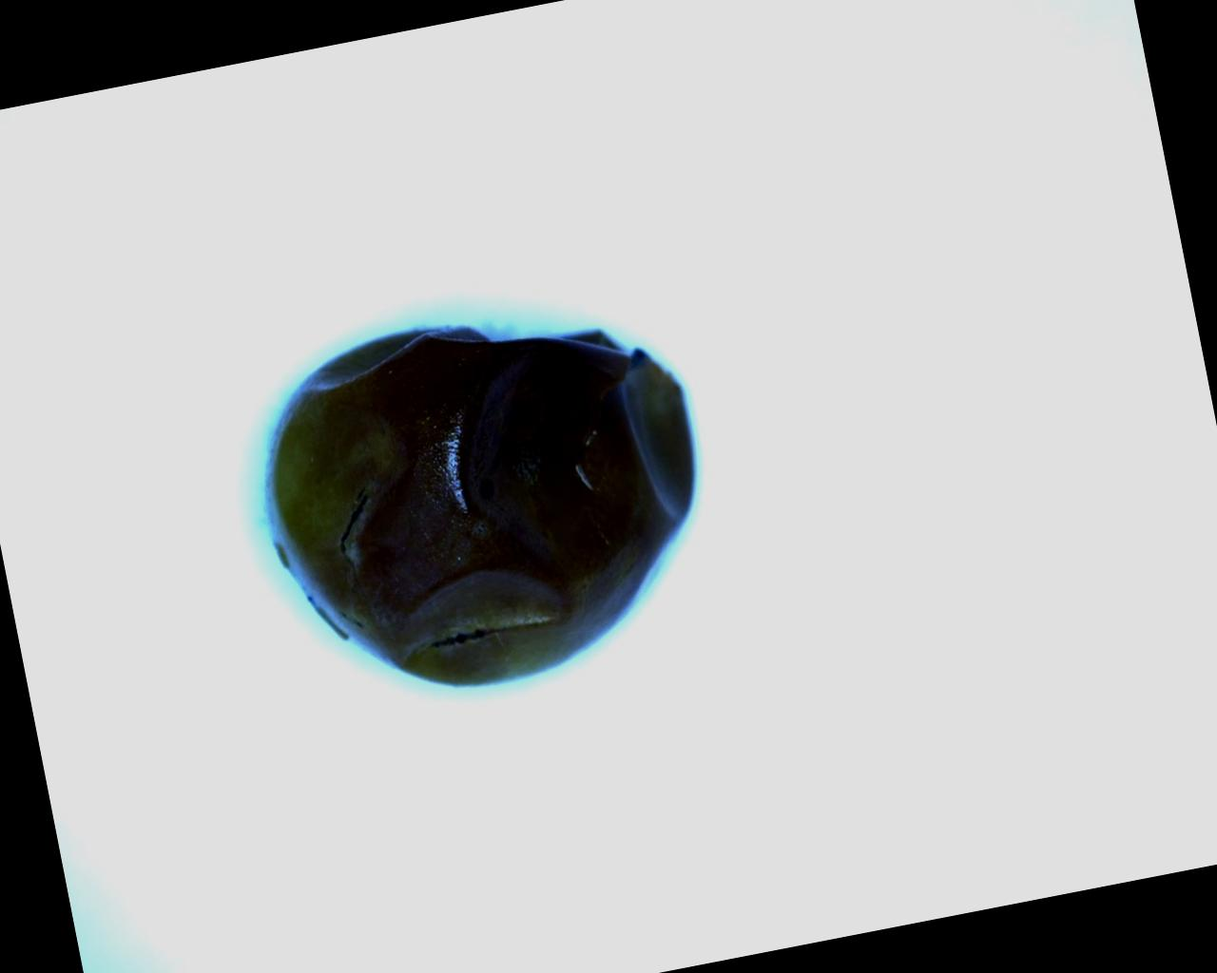Grape Rotten: (234, 276, 734, 721)
